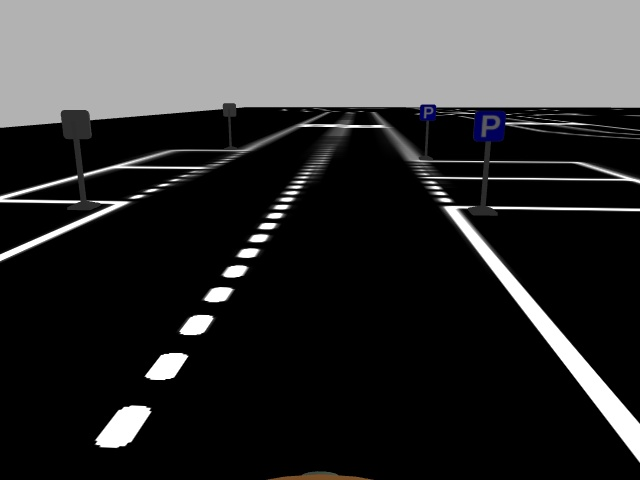parking: (474, 110, 505, 140), (419, 104, 436, 120)
